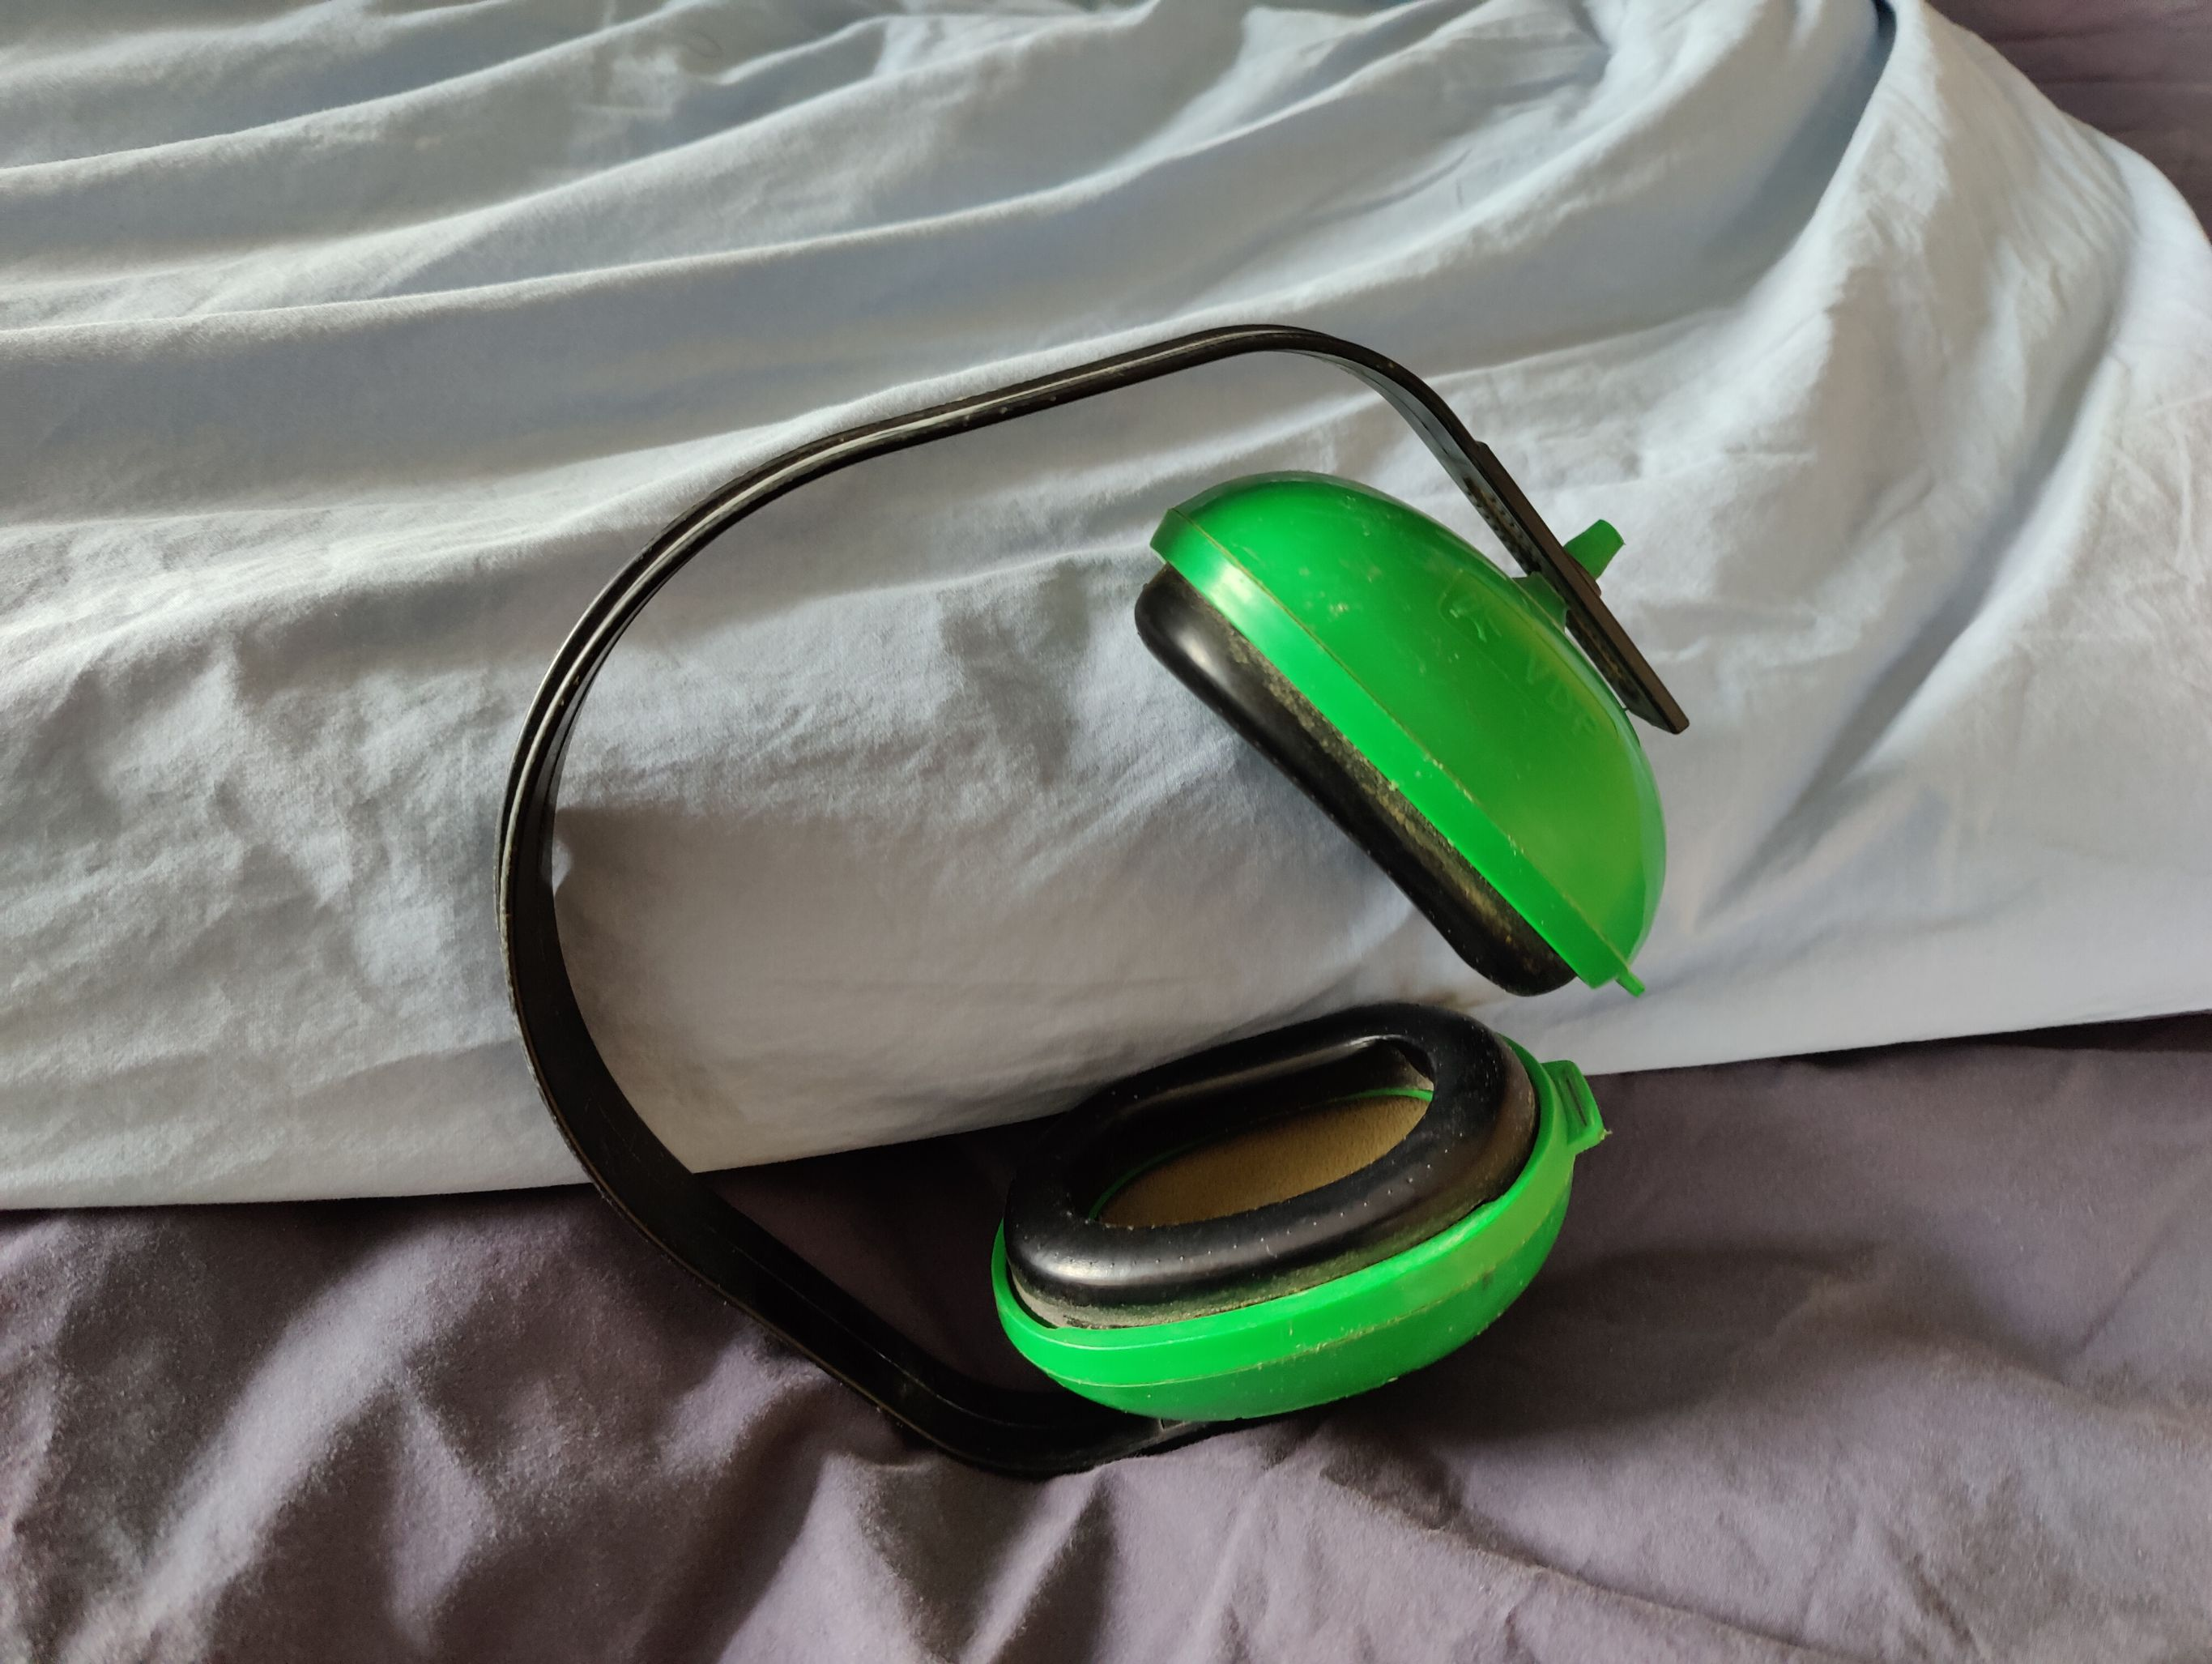headphones: (493, 322, 1684, 1484)
